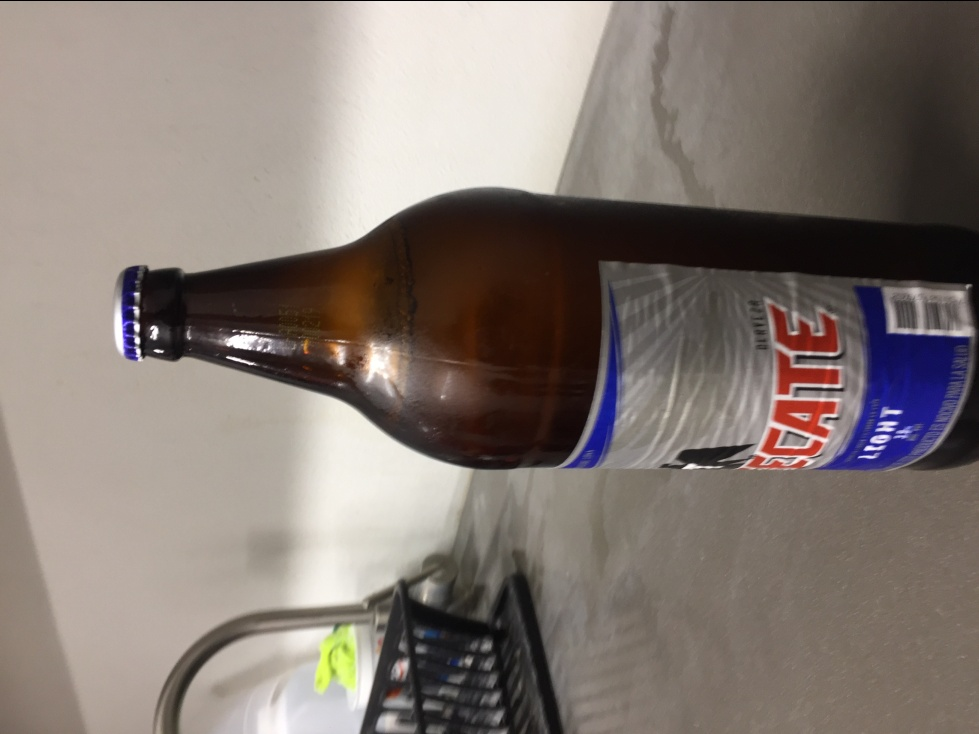tecateC: (113, 189, 979, 481)
